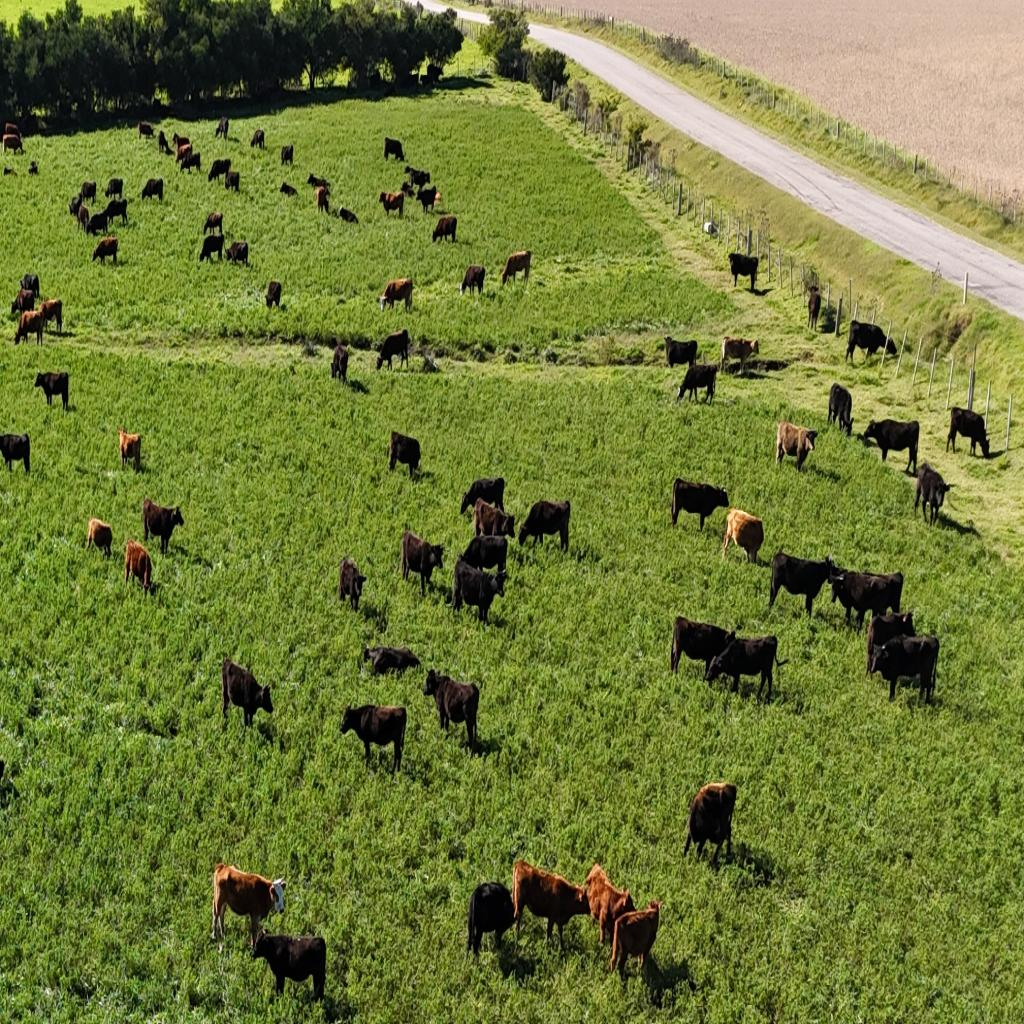cow: (511, 859, 591, 949), (211, 860, 287, 950), (250, 927, 326, 1005), (704, 632, 779, 707), (866, 630, 938, 704), (340, 702, 408, 774), (830, 565, 905, 629), (680, 783, 734, 869), (423, 673, 482, 751), (770, 551, 836, 620), (609, 900, 662, 983), (584, 863, 634, 949), (466, 881, 516, 961), (220, 657, 274, 730), (452, 557, 508, 627), (672, 614, 733, 678), (671, 478, 728, 534), (861, 418, 919, 470), (399, 531, 444, 596), (518, 499, 570, 553), (915, 462, 955, 526), (142, 496, 185, 554), (946, 405, 990, 459), (775, 421, 818, 475), (722, 508, 763, 564), (459, 532, 510, 576), (846, 321, 896, 365), (364, 642, 423, 677), (460, 476, 504, 518), (676, 362, 717, 406), (473, 498, 515, 540), (720, 336, 760, 376), (388, 429, 421, 476), (338, 557, 366, 611), (124, 540, 152, 594), (375, 329, 410, 372), (827, 382, 854, 437), (0, 432, 31, 477), (35, 370, 69, 410), (380, 277, 414, 314), (728, 251, 758, 291), (14, 309, 46, 346), (85, 517, 113, 559), (664, 336, 697, 370), (499, 250, 529, 287), (118, 426, 142, 472), (39, 298, 63, 336), (459, 263, 485, 298), (91, 236, 119, 267), (432, 214, 458, 246), (10, 288, 36, 320), (378, 189, 404, 219), (199, 234, 224, 265), (330, 344, 349, 384), (104, 198, 128, 228), (225, 240, 249, 268), (86, 210, 110, 238), (807, 285, 821, 332), (405, 166, 431, 190), (207, 158, 231, 183), (416, 186, 437, 214), (202, 211, 224, 237), (141, 178, 163, 202), (384, 137, 404, 162), (20, 273, 40, 298), (181, 151, 201, 175), (266, 280, 282, 309), (104, 177, 124, 200), (2, 134, 23, 155), (316, 184, 330, 215), (78, 181, 96, 205), (307, 173, 329, 192), (426, 62, 444, 84), (77, 204, 90, 234), (224, 170, 240, 194), (336, 207, 358, 223), (215, 116, 229, 140), (68, 196, 82, 220), (173, 132, 190, 151), (138, 121, 154, 141), (250, 129, 264, 151), (280, 144, 294, 165), (158, 130, 170, 154), (280, 182, 298, 197), (367, 69, 382, 87), (400, 182, 416, 198), (410, 67, 424, 85), (4, 123, 20, 137)
